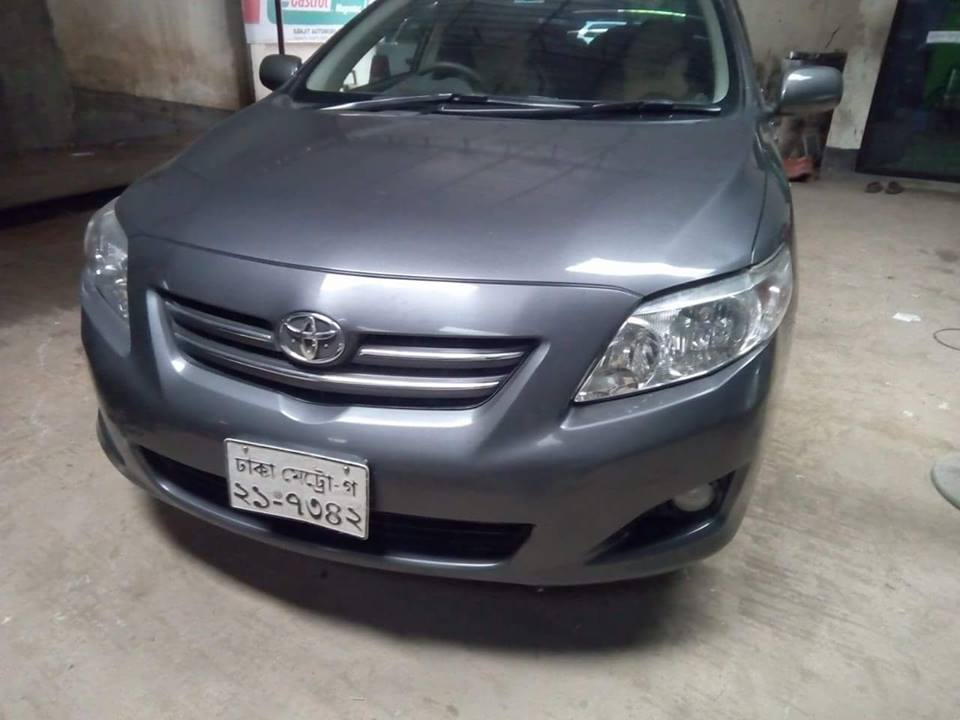registration_plate: (226, 440, 368, 540)
